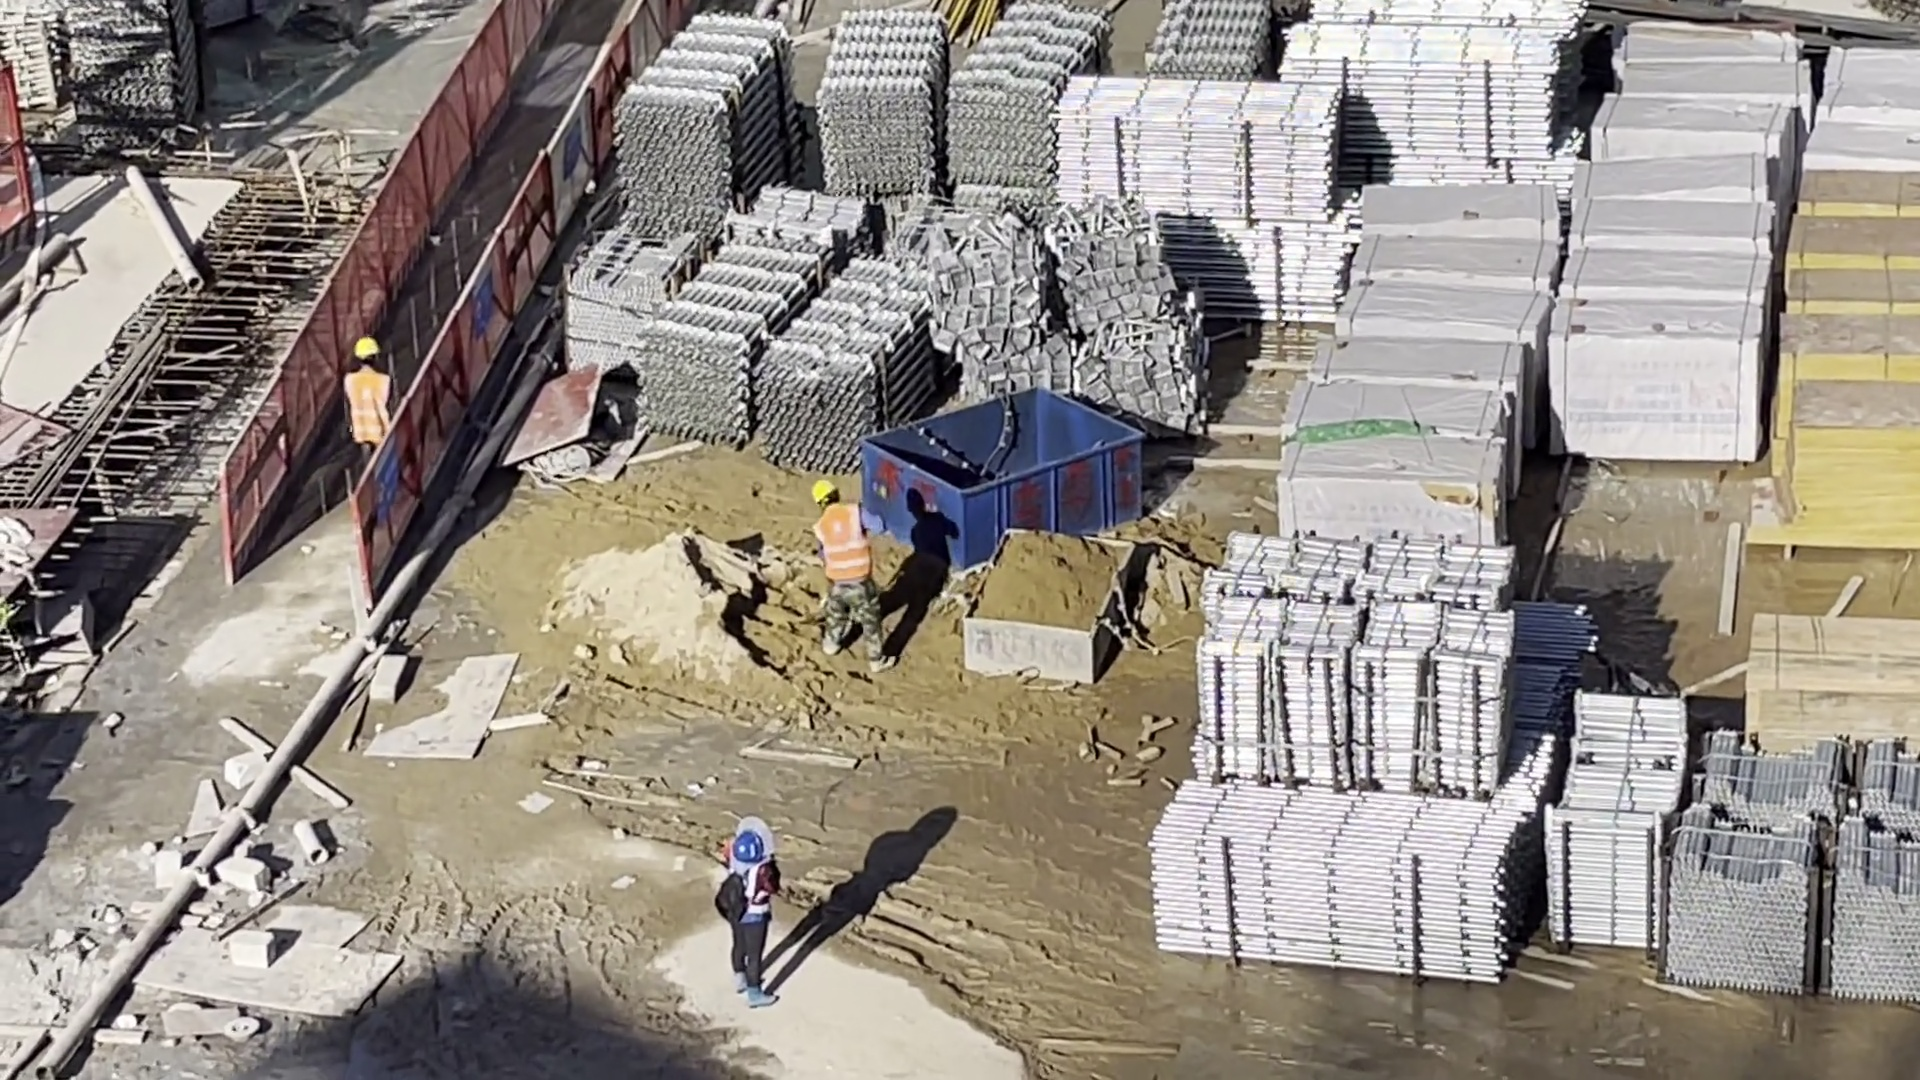board: (1774, 168, 1920, 541), (1742, 612, 1920, 745)
fence: (239, 1, 661, 565)
helmet: (733, 831, 764, 863), (812, 479, 836, 506), (355, 340, 380, 357)
hopper: (859, 385, 1142, 568), (961, 530, 1136, 683)
person: (809, 481, 892, 672), (719, 823, 781, 1006), (346, 341, 393, 477)
scaffold: (1198, 538, 1514, 796), (1151, 778, 1532, 978), (1056, 73, 1344, 320), (1675, 734, 1920, 997), (655, 247, 931, 464), (821, 11, 1105, 189), (1281, 23, 1561, 165), (624, 16, 783, 238), (1555, 693, 1674, 947), (67, 1, 190, 137), (1150, 3, 1275, 81), (1, 1, 65, 118)
slogan: (374, 446, 397, 522), (471, 268, 494, 334)
vest: (819, 508, 869, 579), (347, 373, 392, 439), (740, 873, 765, 929)
